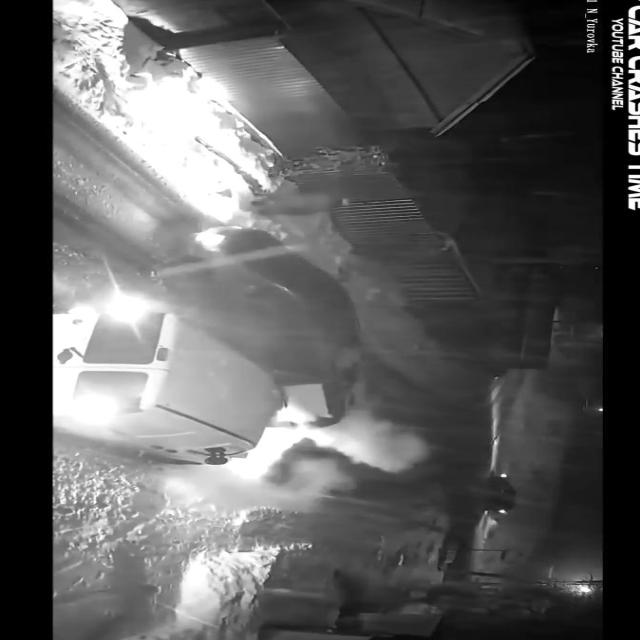accident: (52, 221, 384, 475)
